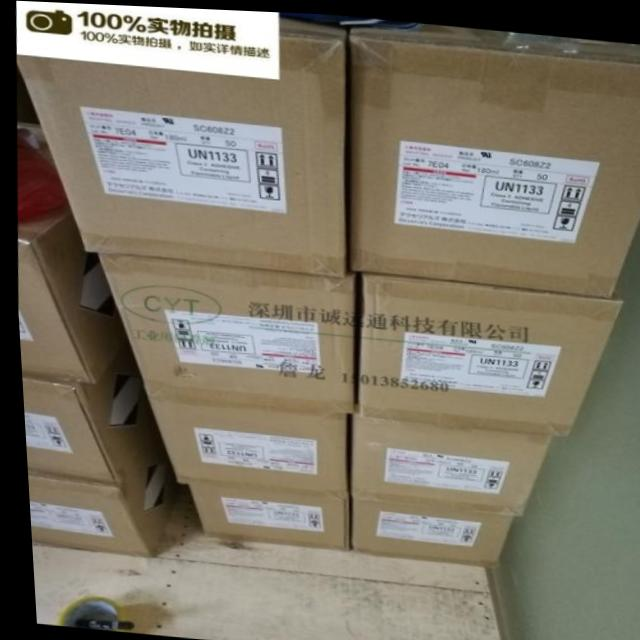box: (16, 13, 347, 276), (347, 22, 640, 293), (352, 271, 618, 432), (94, 251, 352, 412), (344, 413, 548, 514), (17, 337, 155, 481), (22, 429, 175, 558), (144, 395, 344, 492), (16, 209, 125, 381), (344, 492, 507, 562), (180, 482, 344, 548)
